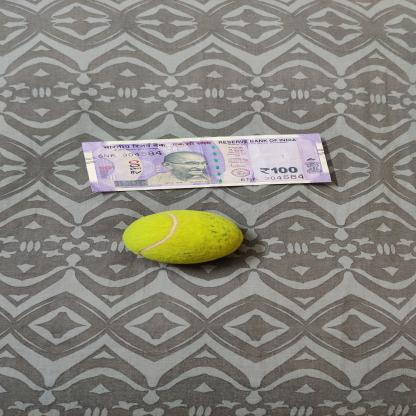New100Front: (78, 133, 335, 193)
